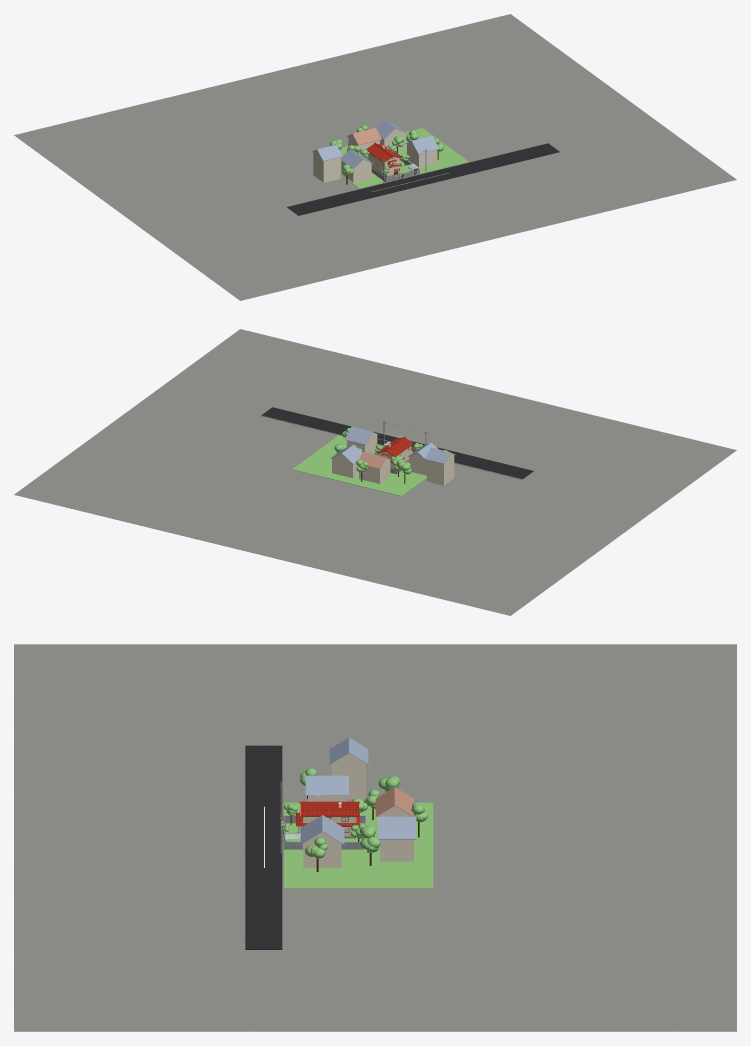
File: nobita_house.glb
The picture shows the model from 3 angles, top to bottom: view 1: azimuth 30°, elevation 25°; view 2: azimuth 150°, elevation 25°; view 3: azimuth 270°, elevation 25°; orthographic projection. The views are drawn at different scales.
Visible parts, largest first — view 1: BD_FarGround, BD_FarStreet, BD_Lawn, Street, BD_HouseFar_Body; view 2: BD_FarGround, BD_Lawn, BD_FarStreet, BD_HouseFar_Body; view 3: BD_FarGround, BD_Lawn, BD_FarStreet, Street, BD_HouseB2_RoofB, BD_HouseL_RoofB, BD_HouseFar_Body, BD_HouseB2_Body, BD_HouseR_Body, Roof_Tiles_East.
Boxes of the visible parts, box(x1,y1,x2,y2) form: BD_FarGround: box(14, 14, 736, 300); BD_FarStreet: box(287, 143, 559, 215); BD_Lawn: box(339, 128, 468, 188); Street: box(366, 169, 455, 196); BD_HouseFar_Body: box(313, 152, 340, 182); BD_FarGround: box(14, 329, 736, 615); BD_Lawn: box(292, 435, 426, 496); BD_FarStreet: box(261, 407, 533, 479); BD_HouseFar_Body: box(427, 455, 454, 485); BD_FarGround: box(14, 644, 736, 1031); BD_Lawn: box(284, 802, 433, 888); BD_FarStreet: box(245, 745, 282, 949); Street: box(245, 806, 282, 867); BD_HouseB2_RoofB: box(378, 816, 416, 839); BD_HouseL_RoofB: box(305, 775, 348, 795); BD_HouseFar_Body: box(332, 762, 365, 799); BD_HouseB2_Body: box(380, 839, 413, 861); BD_HouseR_Body: box(303, 842, 341, 867); Roof_Tiles_East: box(300, 803, 358, 815).
Size of what is drawn, in the model's own units: 190 by 11.15 by 150.
44 materials, 29 textured.
